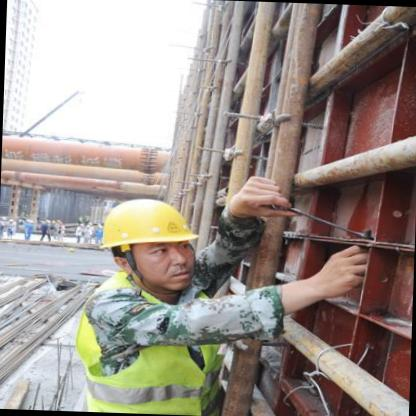helmet: (89, 189, 215, 301)
